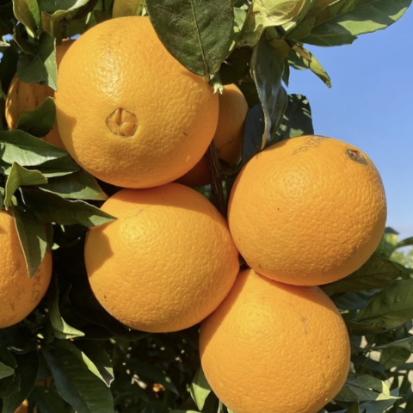orange: (48, 9, 237, 190), (176, 257, 370, 409), (71, 171, 244, 330), (228, 138, 405, 283)
